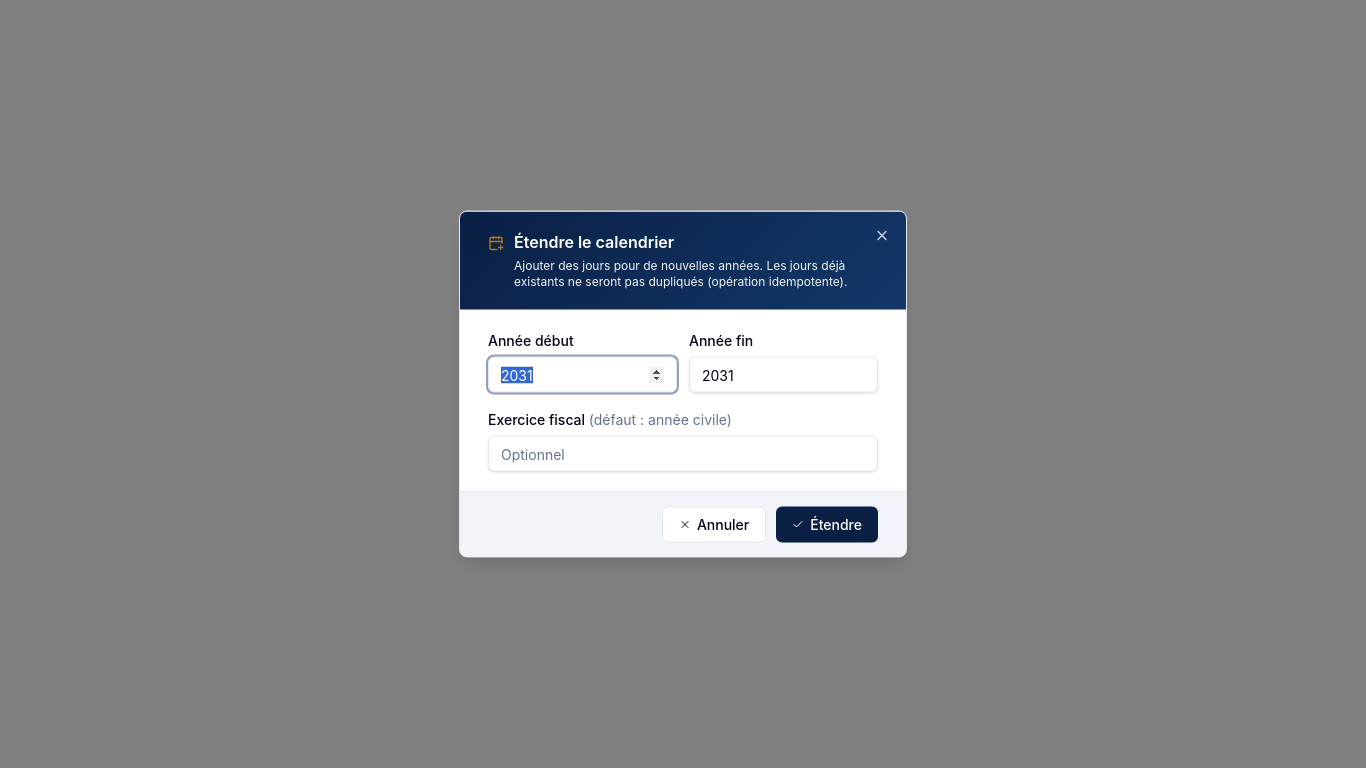
EtendreCalendrierDialog › affiche une erreur quand anneeFin < anneeDebut
Replace the text in the number field with test id "etendre-annee-fin" with "2030". click: (784, 374)
box: [689, 356, 878, 392]
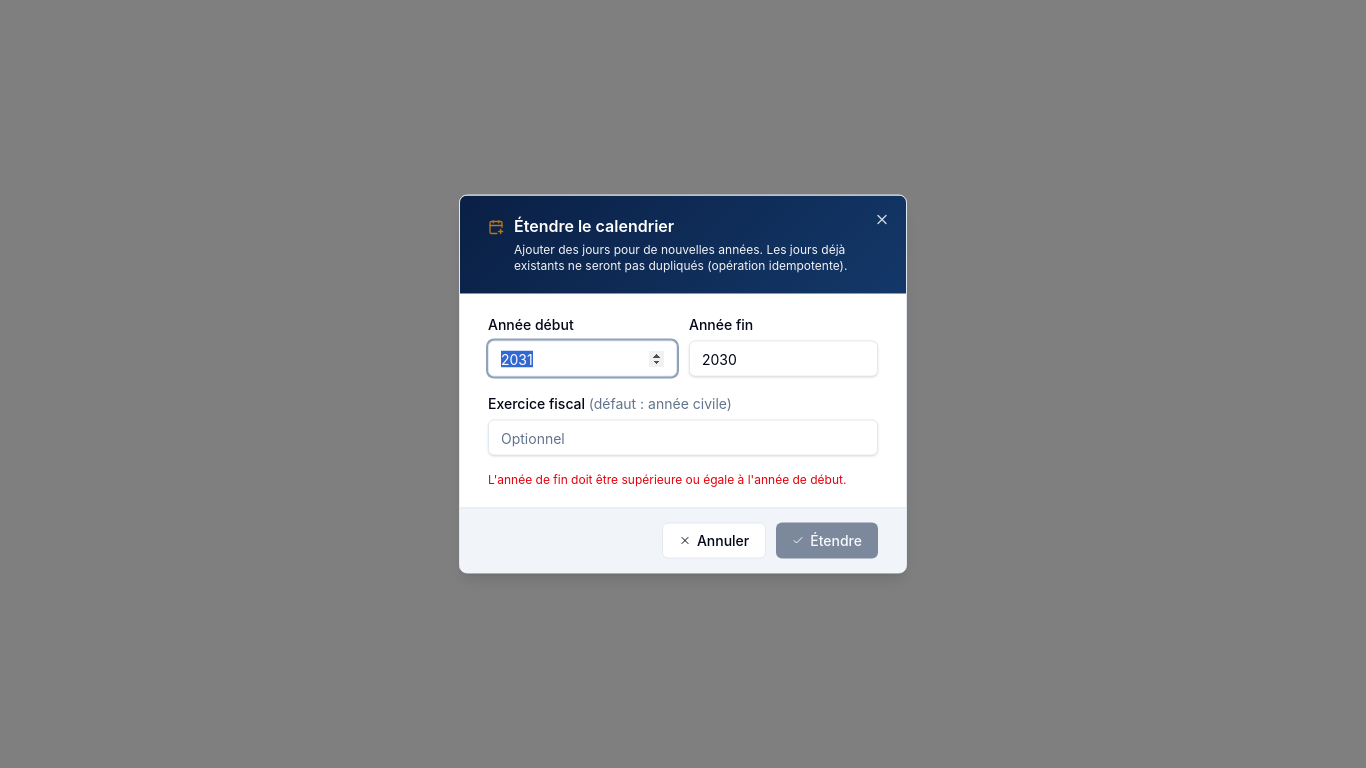
Now the text with test id "etendre-error" is shown, box [488, 472, 878, 488]
Now the button with test id "etendre-submit" is disabled, box [776, 522, 878, 558]
